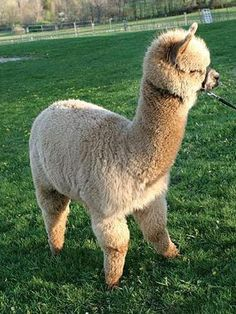alpaca: (29, 21, 220, 286)
